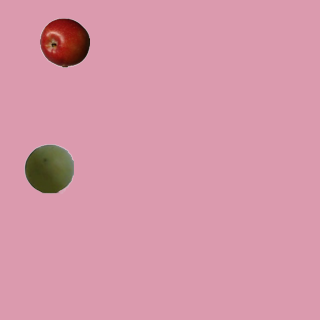Apple Braeburn: (39, 17, 89, 67)
Grape White 4: (23, 143, 73, 193)
